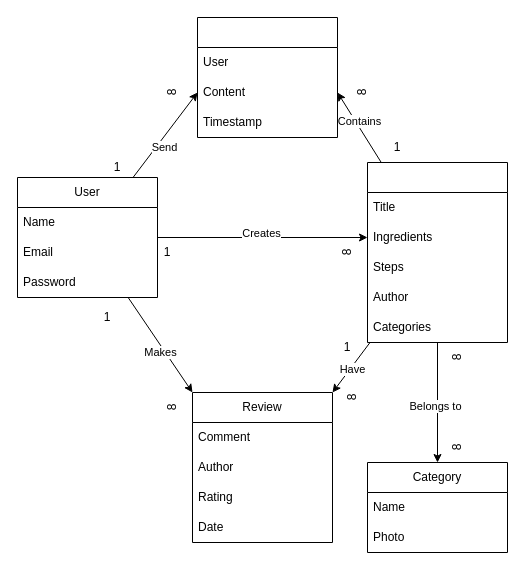
The diagram is 525 pixels wide and 570 high, and some of its shapes have lost their labels. The shapes that lost their labels are listed below. From the top down, each one's box as (x1, y1, x2, y2) in pixels, then its label:
(196, 16, 338, 138): Message
(366, 162, 508, 342): Recipe
